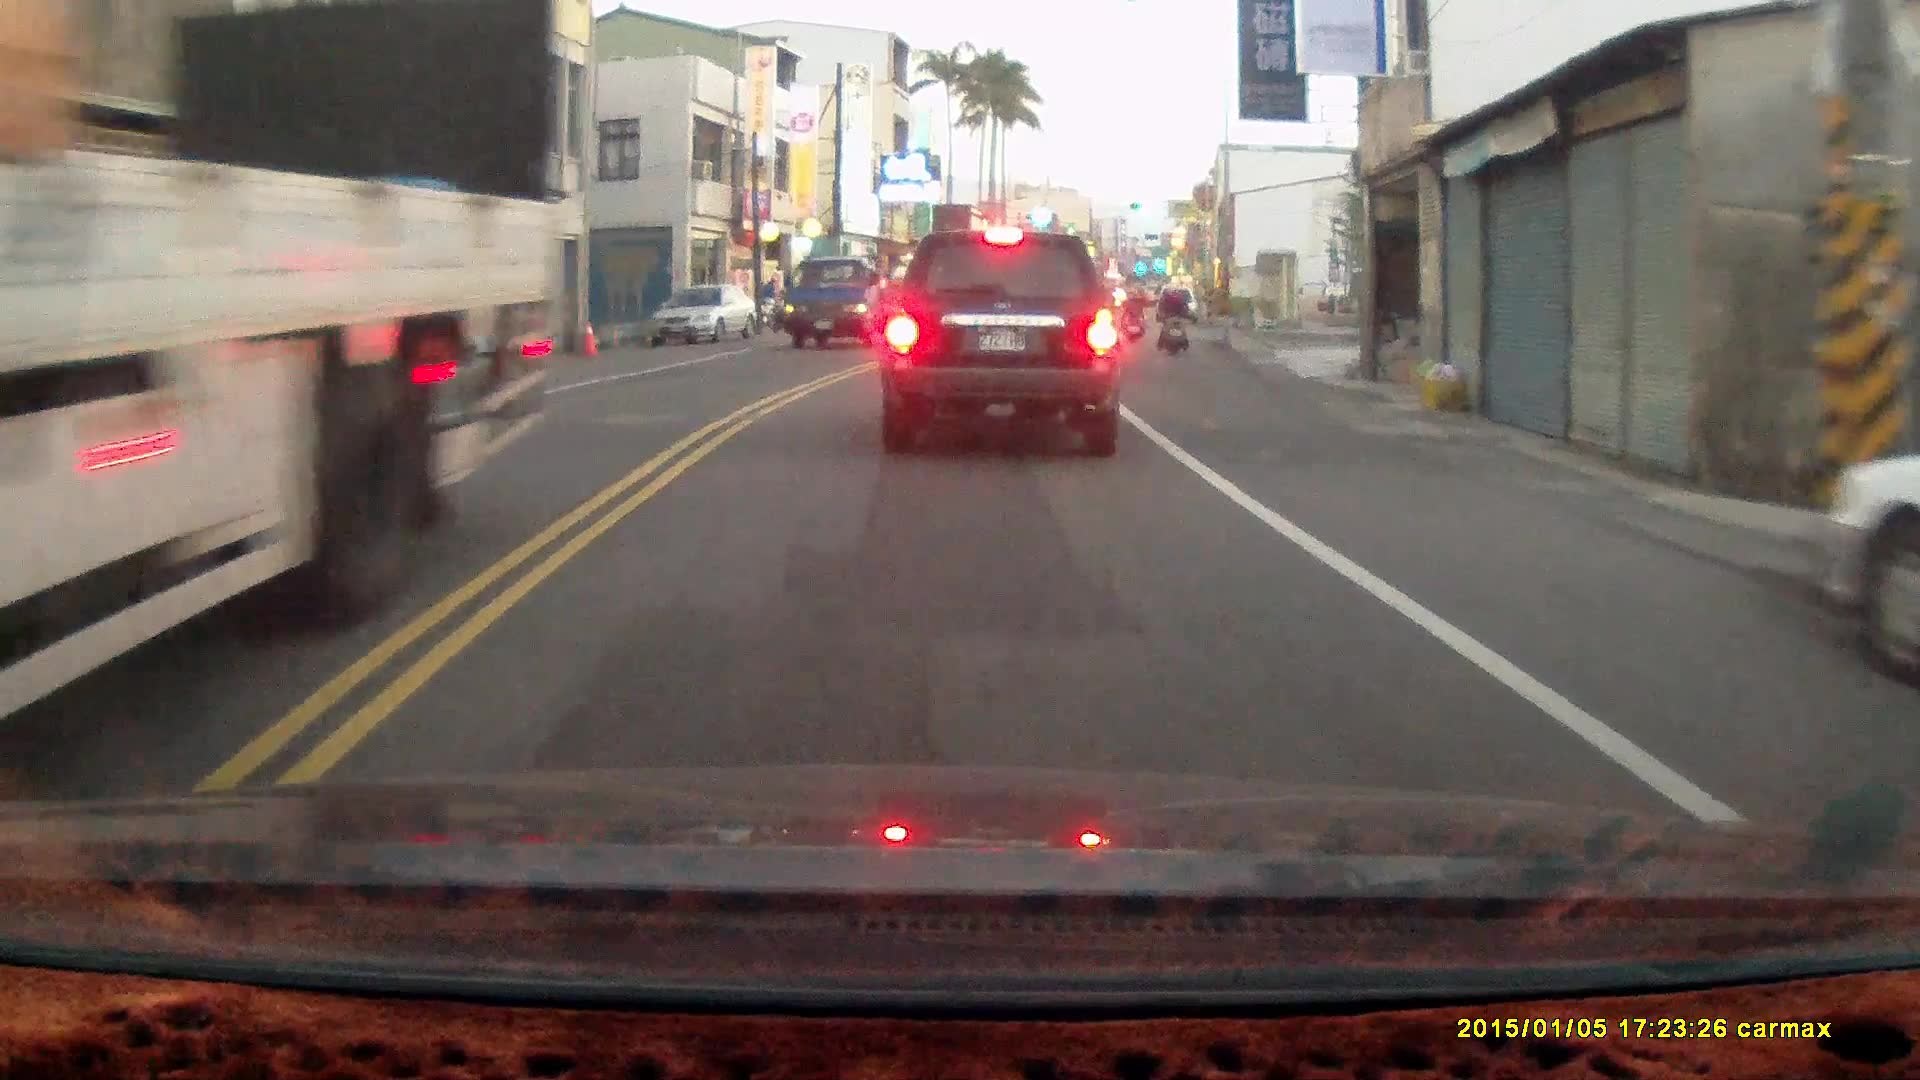rider: (1155, 278, 1186, 358), (1118, 280, 1145, 344)
vehicle: (0, 0, 549, 788), (879, 228, 1126, 459), (1806, 451, 1920, 688), (780, 256, 902, 354), (647, 284, 759, 347)
